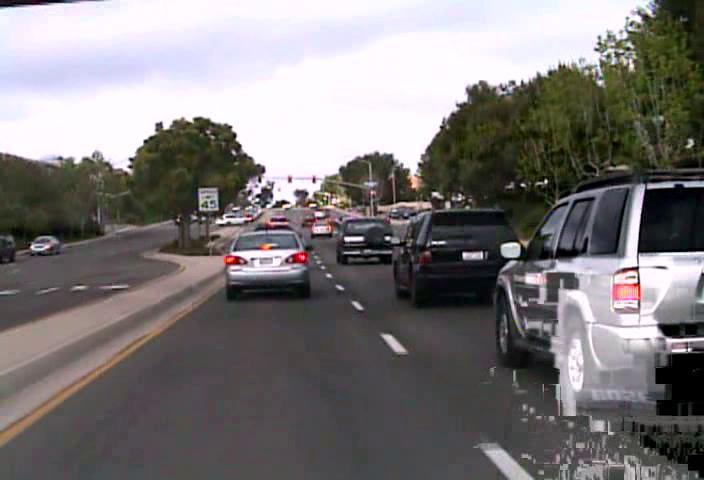speedLimit45: (197, 186, 218, 211)
